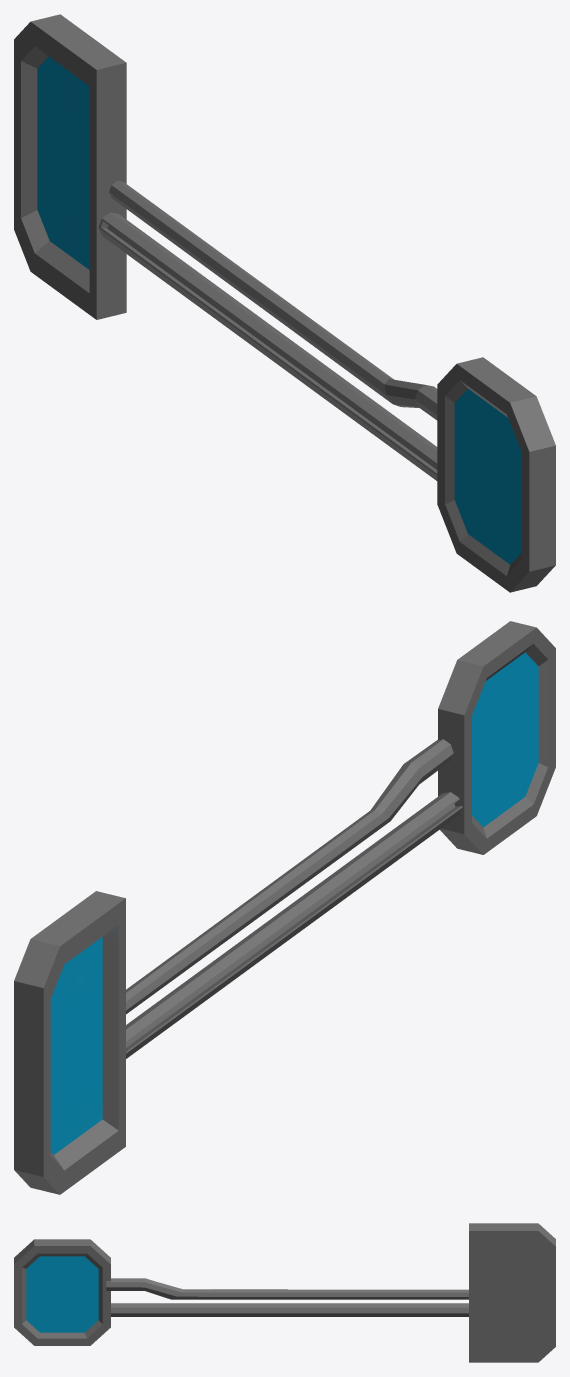
3 views of the same model, one above another, from view 1: azimuth 30°, elevation 25°; view 2: azimuth 150°, elevation 25°; view 3: azimuth 270°, elevation 25° (orthographic). The views are drawn at different scales.
Visible parts, largest first — view 1: SM_B_Part18; view 2: SM_B_Part18; view 3: SM_B_Part18.
Boxes of the visible parts, left/top/right/bottom form: SM_B_Part18: left=14, top=14, right=555, bottom=592; SM_B_Part18: left=14, top=621, right=555, bottom=1194; SM_B_Part18: left=14, top=1223, right=555, bottom=1362.
Bounding box in the file's own units: 7.44 × 206 × 55.15.
1 material, 1 textured.
